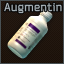Augmentin antibiotic pills: (0, 0, 64, 64)
